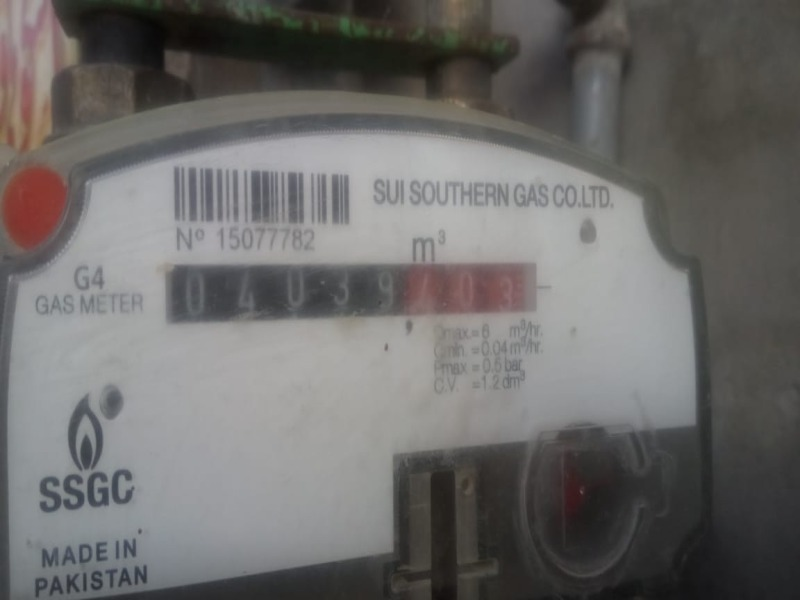ssgc: (155, 256, 545, 324)
